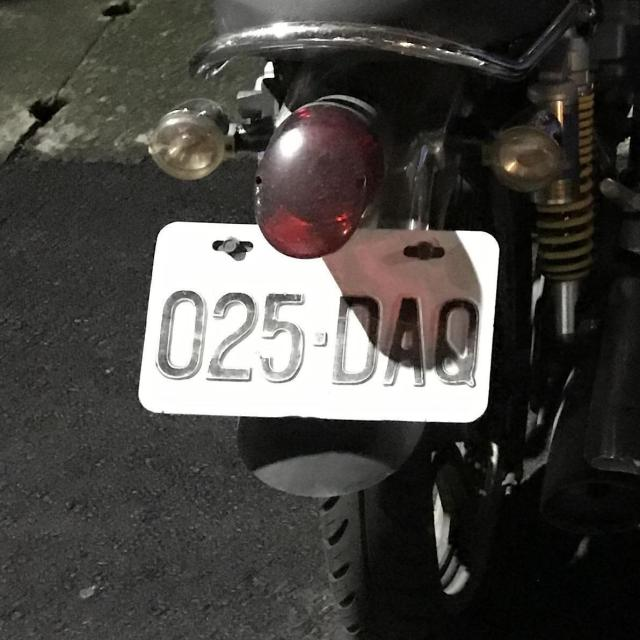W: (134, 204, 509, 442)
